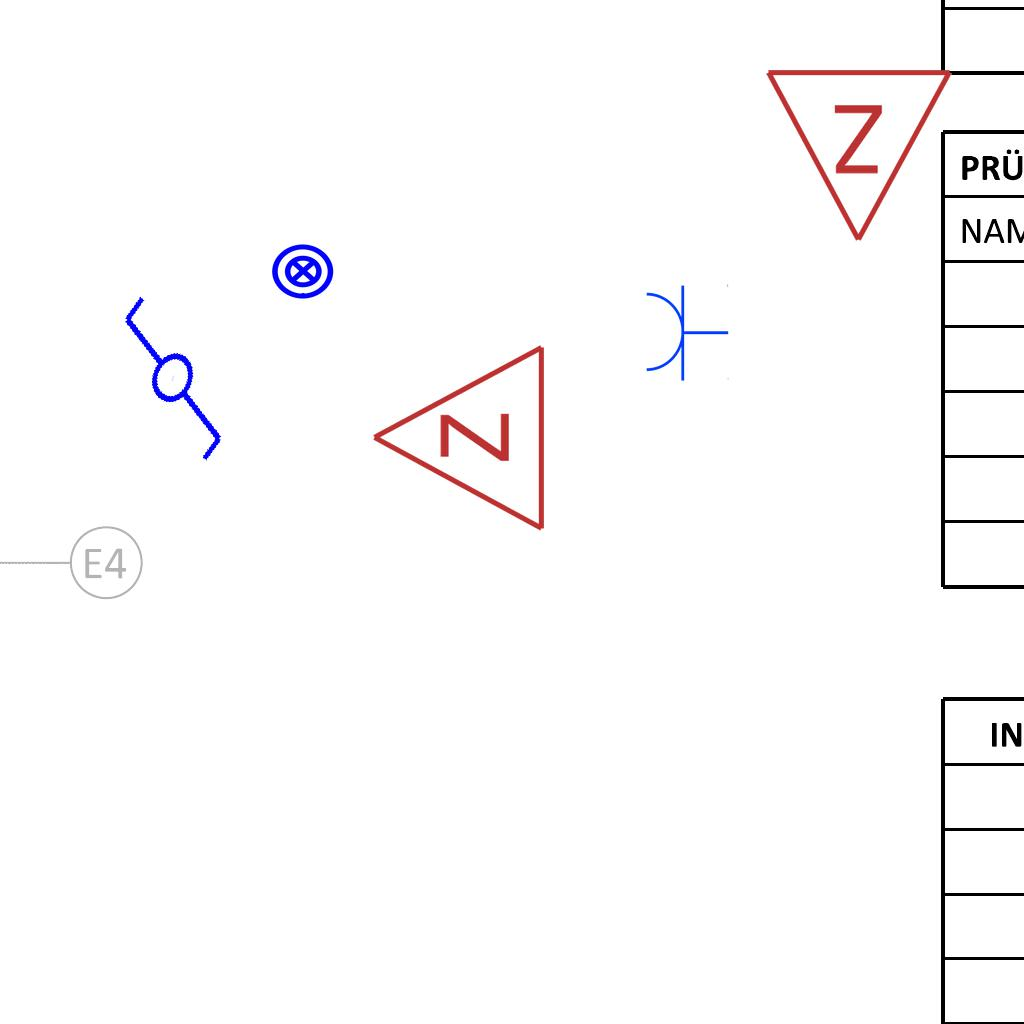Schukosteckdose_einfach: (642, 282, 729, 382)
Taster_beleuchtet: (270, 238, 336, 304)
Wechselschalter: (82, 272, 273, 470)
Zimmersignalleuchte: (359, 342, 559, 538), (763, 55, 959, 255)
